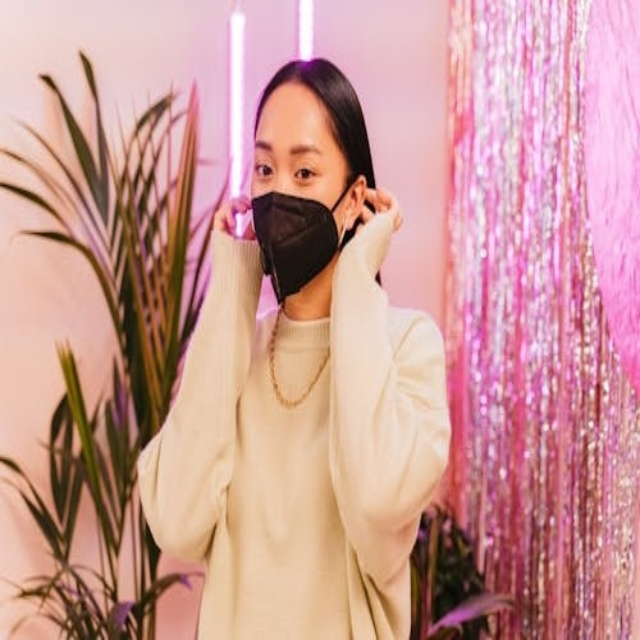Mascara: (251, 181, 362, 300)
Sin_gafas: (248, 127, 337, 190)
Sin_guantes: (355, 179, 410, 246), (207, 188, 251, 233)
